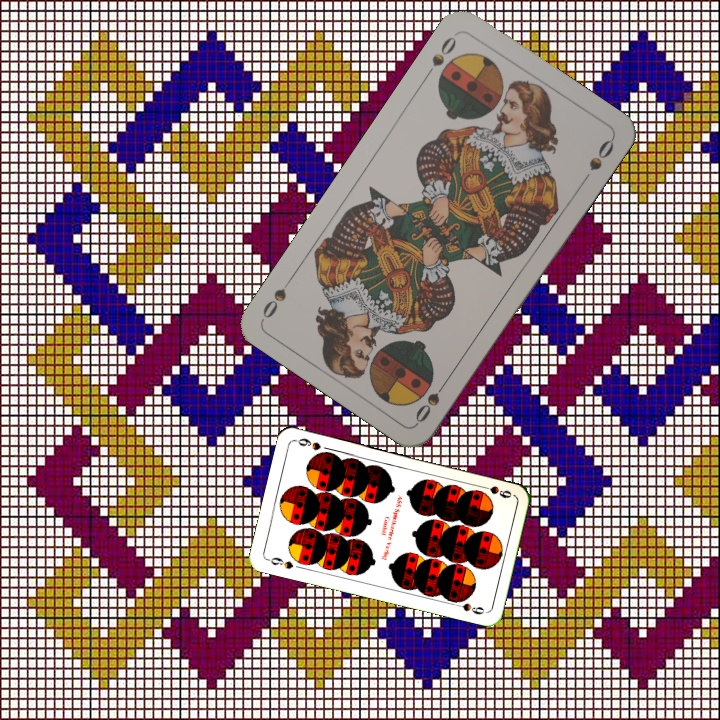S9: (475, 481, 514, 501), (263, 553, 296, 572)
SO: (411, 374, 452, 426), (421, 32, 459, 81)
